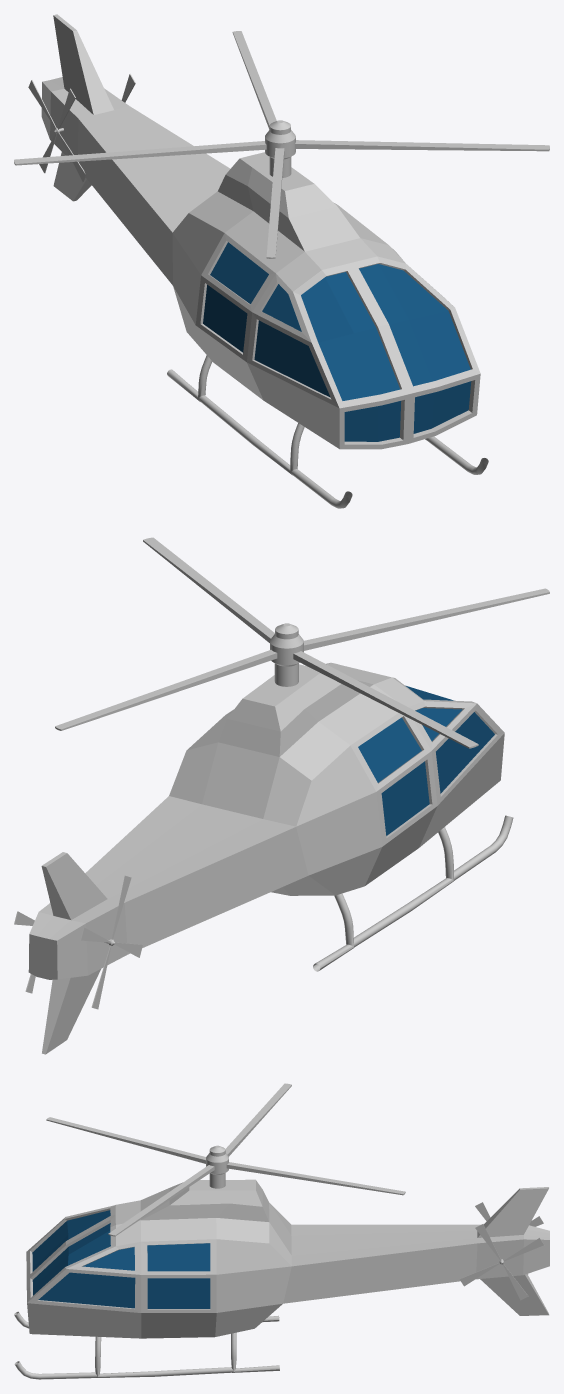
File: helicopter_animation_000068.obj
The picture shows the model from 3 angles, top to bottom: view 1: azimuth 30°, elevation 25°; view 2: azimuth 150°, elevation 25°; view 3: azimuth 270°, elevation 25°; orthographic projection. The views are drawn at different scales.
Visible parts, largest first — view 1: Helicopter.007_Cylinder.008, Helicopter.001_Cylinder.001, Helicopter.004_Cylinder.005; view 2: Helicopter.007_Cylinder.008, Helicopter.001_Cylinder.001, Helicopter.004_Cylinder.005; view 3: Helicopter.007_Cylinder.008, Helicopter.001_Cylinder.001, Helicopter.003_Cylinder.004.
Part boxes in pixels (x1=…): Helicopter.007_Cylinder.008: x1=41, y1=14, x2=488, y2=508; Helicopter.001_Cylinder.001: x1=14, y1=31, x2=549, y2=258; Helicopter.004_Cylinder.005: x1=28, y1=80, x2=85, y2=181; Helicopter.007_Cylinder.008: x1=28, y1=662, x2=513, y2=1054; Helicopter.001_Cylinder.001: x1=55, y1=537, x2=549, y2=748; Helicopter.004_Cylinder.005: x1=80, y1=875, x2=142, y2=1009; Helicopter.007_Cylinder.008: x1=14, y1=1179, x2=549, y2=1379; Helicopter.001_Cylinder.001: x1=46, y1=1083, x2=405, y2=1236; Helicopter.003_Cylinder.004: x1=460, y1=1224, x2=543, y2=1300.
Size of the model in its own units: 5.03 by 3.2 by 7.49.
